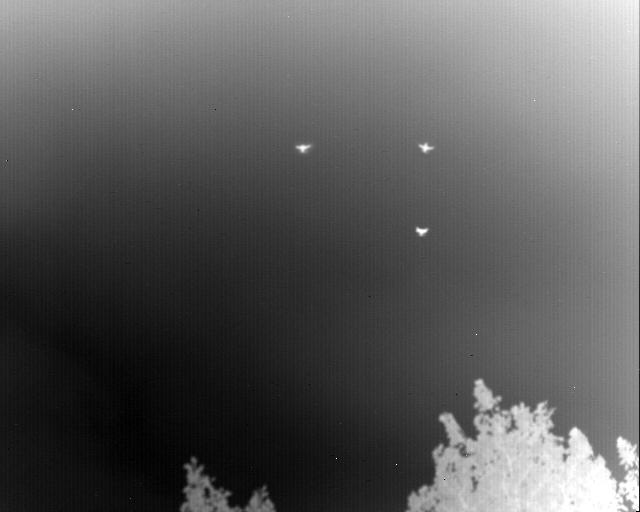plane: (418, 141, 434, 152), (295, 142, 311, 152), (415, 225, 429, 236)
